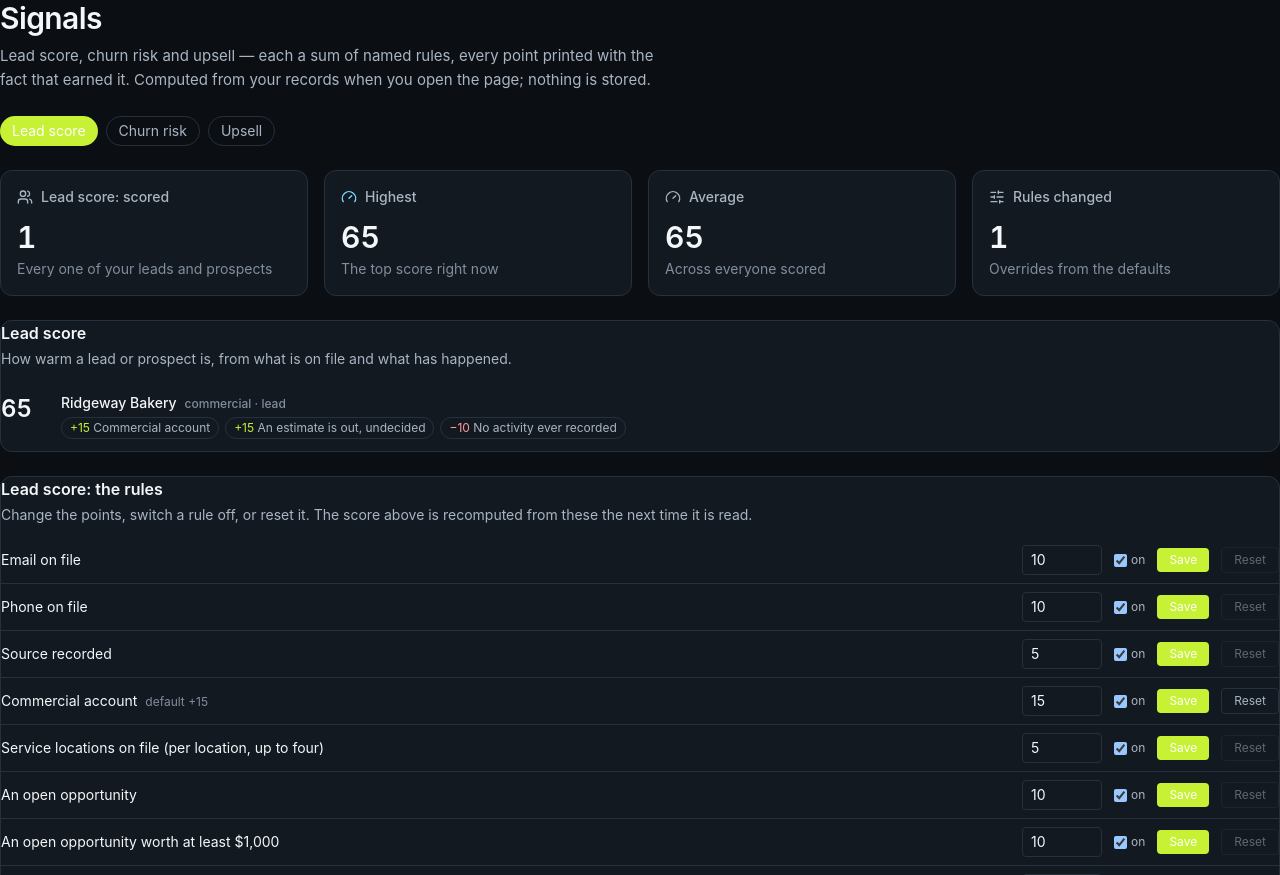
Scenario: ServicesScoringPanel › switches model by re-reading
Expected: the text "Ridgeway Bakery" is shown, x1=61 y1=394 x2=177 y2=411
Step 1. Click the tab "Churn risk" → (153, 131), box x1=106 y1=116 x2=200 y2=146
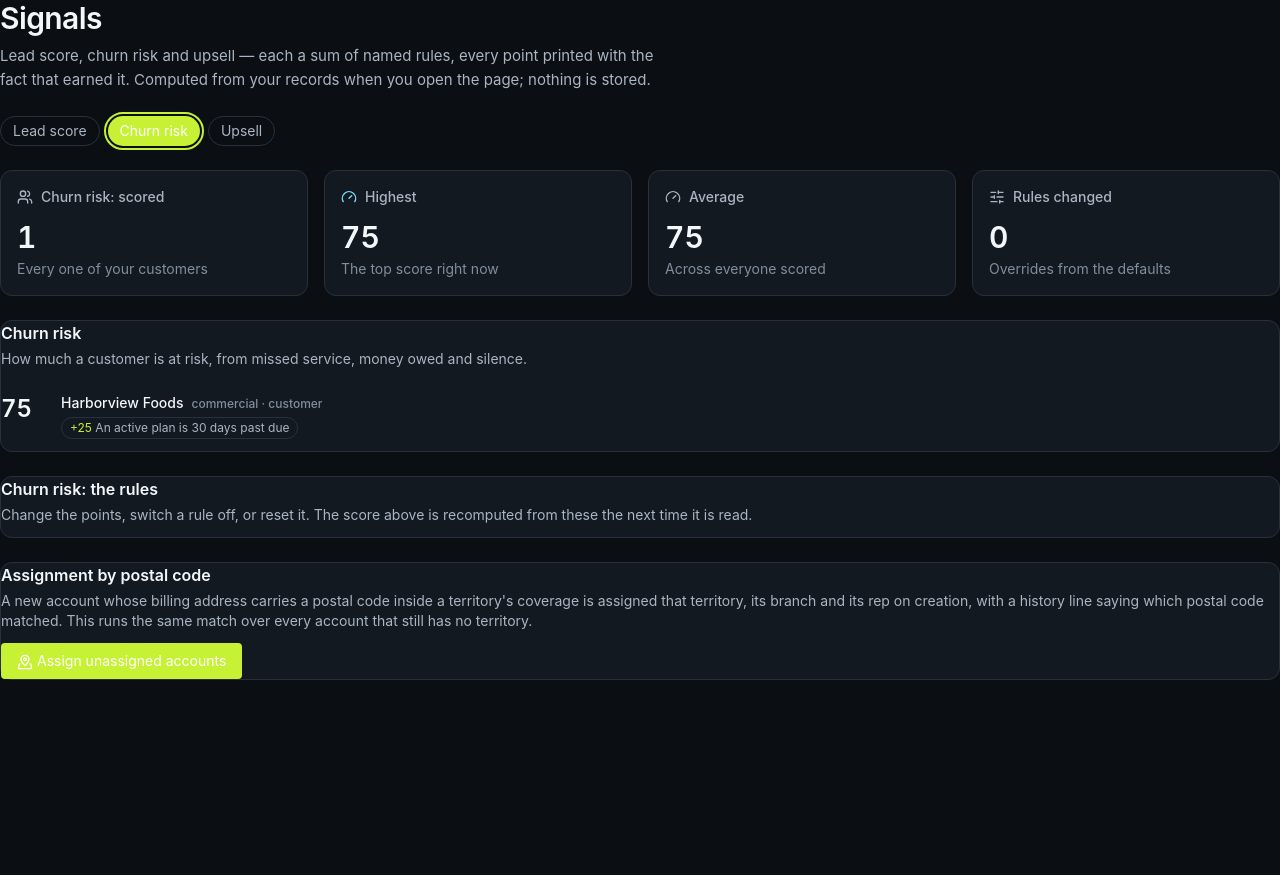
Now the text "Harborview Foods" is shown, box x1=61 y1=394 x2=184 y2=411
Now the list item "An active plan is 30 days past due" is shown, box x1=95 y1=420 x2=290 y2=435
